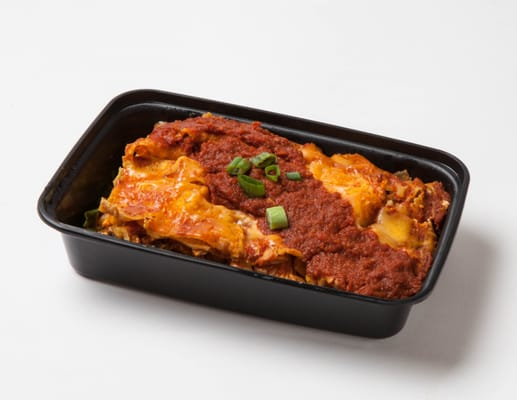sushi: (16, 108, 470, 340)
